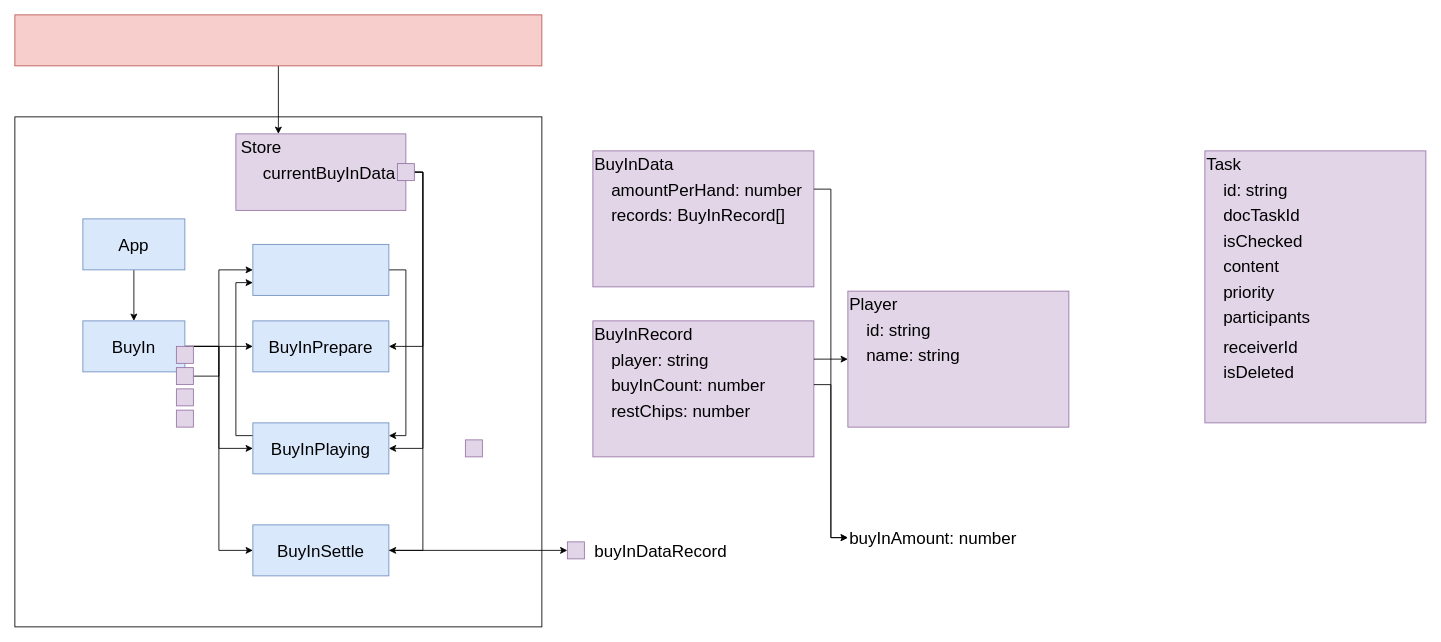
This 1441x642 diagram has some shape labels left out. The shapes that lost their labels are listed below. From the top down, each one's centre as x and y in pixels, then its label:
point 278,40: Server
point 320,269: BuyInPreview
